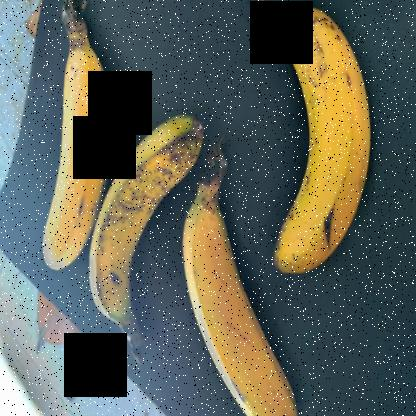freshripe: (179, 184, 308, 415), (31, 1, 118, 275)
ripe: (251, 1, 394, 294), (91, 109, 200, 347)
